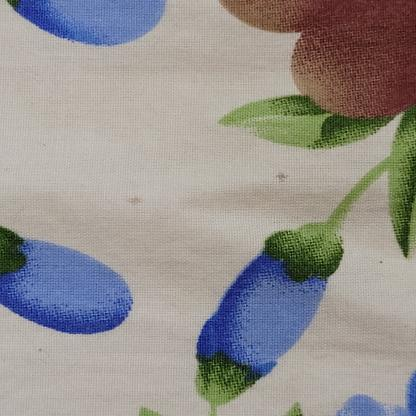spot: (123, 194, 146, 210), (276, 171, 294, 183), (377, 257, 385, 265)
